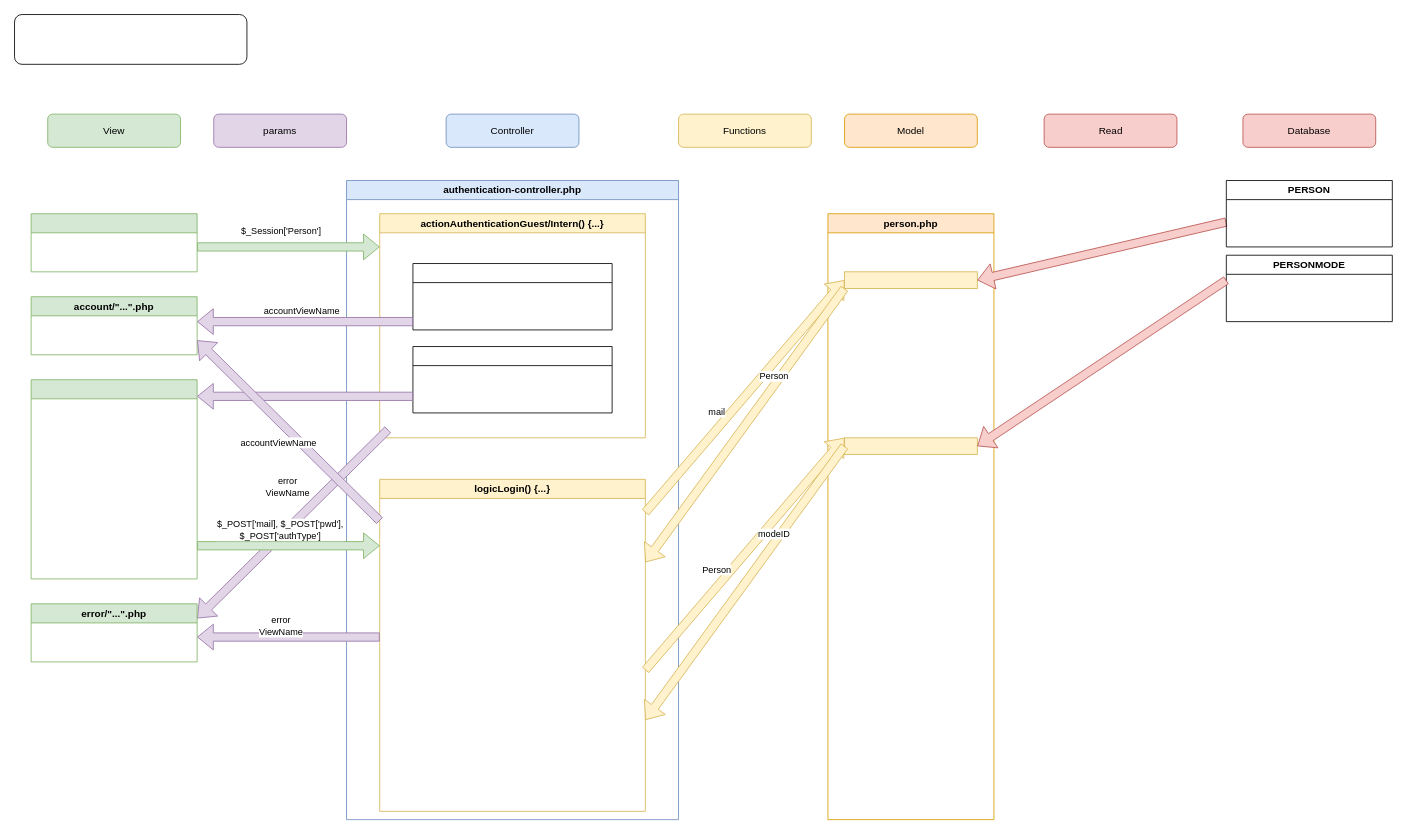
This 1407x834 diagram has some shape labels left out. Here are the shapes that lost their labels. From the top down, the centre of each, then its label:
(x=130, y=39): MVC - Authentication
(x=113, y=242): home.php
(x=512, y=296): case loggedIn
(x=910, y=279): findByMail()
(x=512, y=379): case notLoggedIn
(x=910, y=445): getPersonModeID()
(x=113, y=479): authenticationGuest/Intern.php
